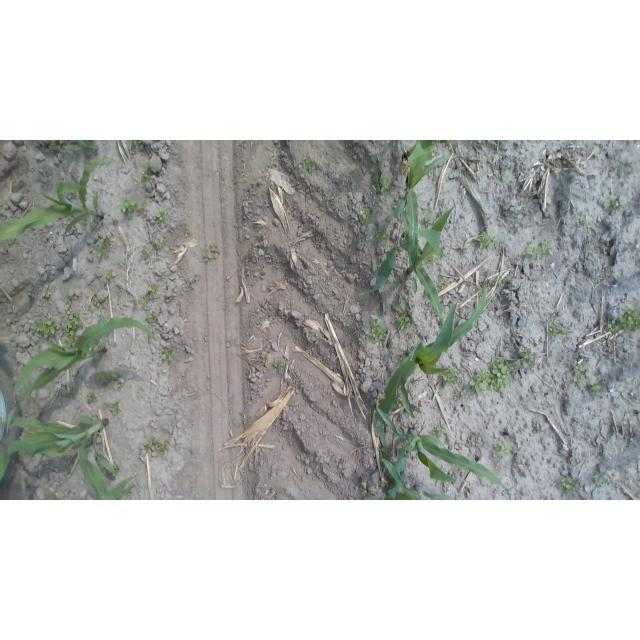Maize: (370, 285, 490, 454), (1, 311, 160, 434), (375, 402, 515, 500), (1, 411, 148, 500), (360, 203, 459, 330), (0, 157, 116, 252), (391, 140, 454, 274), (376, 456, 464, 501), (79, 140, 102, 152)
Weeds: (468, 356, 517, 395), (608, 304, 640, 337), (62, 311, 85, 347), (31, 314, 60, 340), (525, 238, 556, 262), (144, 436, 171, 457), (369, 317, 390, 344), (96, 231, 116, 258), (439, 365, 461, 389), (474, 229, 499, 250), (590, 473, 609, 500), (45, 141, 79, 156), (99, 373, 126, 391), (544, 323, 572, 340), (602, 193, 628, 211), (120, 196, 149, 212), (372, 174, 393, 196), (560, 475, 583, 495), (361, 204, 379, 226), (572, 358, 586, 386), (491, 440, 512, 458), (203, 242, 221, 263), (301, 155, 320, 173), (588, 379, 604, 400), (395, 314, 413, 332), (160, 348, 176, 364), (433, 424, 448, 441), (374, 227, 390, 242), (140, 167, 154, 184), (185, 275, 202, 289), (108, 461, 121, 479), (156, 207, 169, 225), (521, 349, 536, 364), (423, 255, 438, 270), (422, 212, 436, 228), (143, 311, 159, 325), (110, 400, 123, 417), (126, 482, 138, 500), (578, 214, 595, 226), (138, 244, 150, 261), (271, 359, 285, 373), (147, 283, 161, 297), (93, 295, 108, 308), (63, 389, 80, 400), (247, 248, 261, 261), (377, 446, 389, 461), (361, 491, 380, 500), (85, 392, 99, 404), (42, 489, 57, 500), (104, 268, 114, 282), (40, 291, 54, 301), (440, 279, 453, 289), (498, 167, 507, 181), (154, 238, 166, 248), (139, 297, 150, 307), (497, 277, 507, 287), (391, 301, 401, 311), (130, 140, 145, 146), (396, 403, 404, 414), (473, 140, 490, 145), (257, 230, 265, 240), (65, 295, 73, 305), (330, 192, 338, 201), (431, 141, 441, 148), (495, 141, 504, 146), (591, 145, 597, 152)
